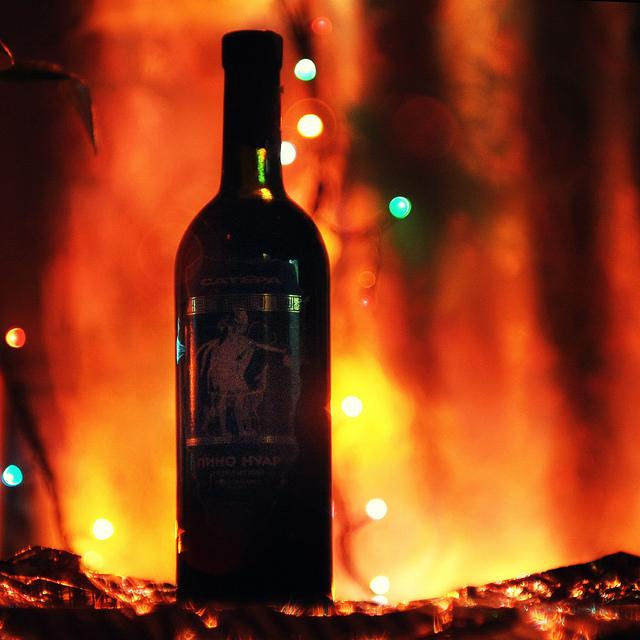Bottle: (158, 28, 349, 603)
